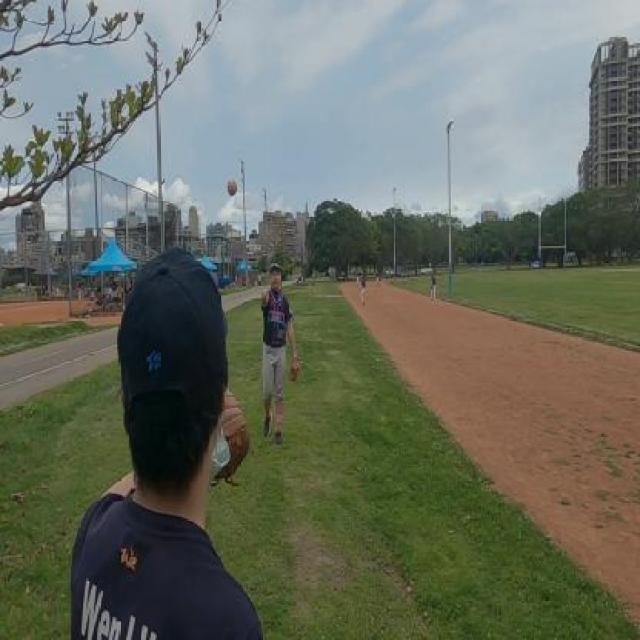baseball: (226, 177, 240, 197)
